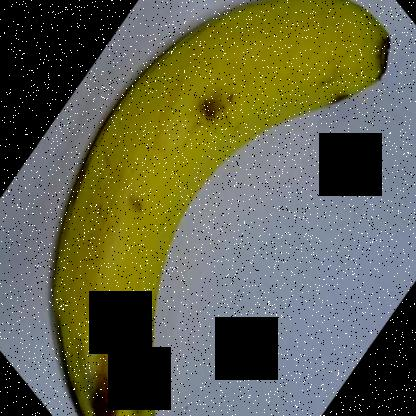freshripe: (47, 1, 401, 416)
